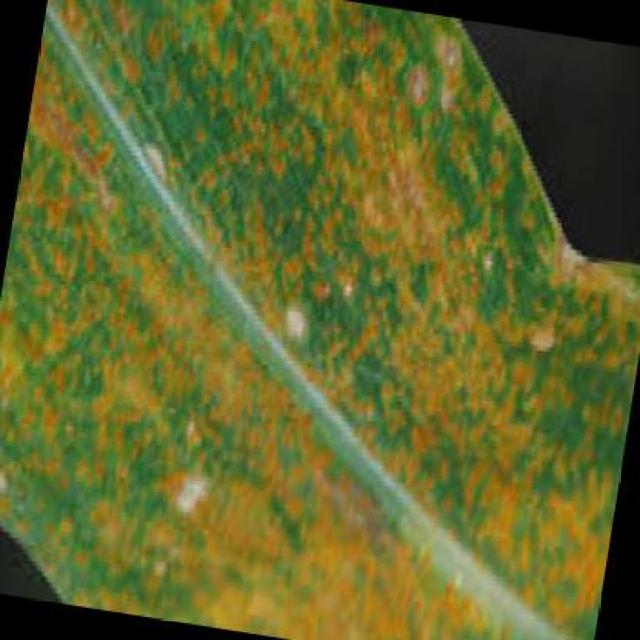Corn_Rust: (43, 35, 568, 600)
